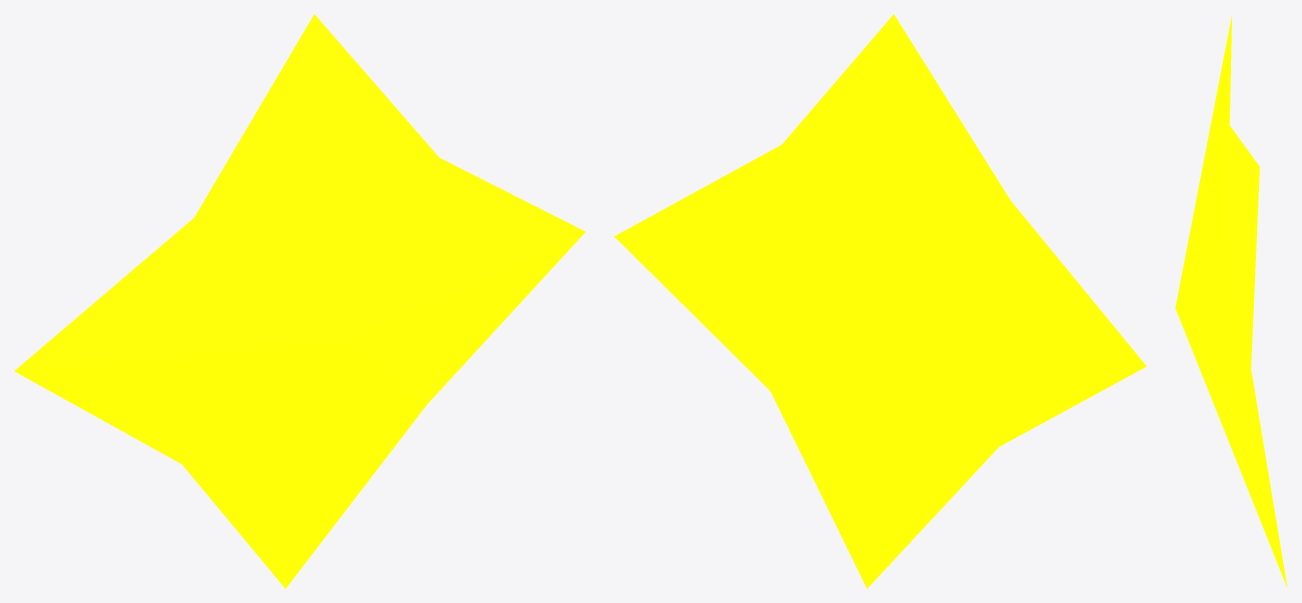
The model's file is four_pointed_star.glb.
3 renders of one model, left to right at view 1: azimuth 30°, elevation 25°; view 2: azimuth 150°, elevation 25°; view 3: azimuth 270°, elevation 25°, orthographic. The views are drawn at different scales.
Visible parts, largest first — view 1: 円柱; view 2: 円柱; view 3: 円柱.
Boxes of the visible parts, box(x1,y1,x2,y2) form: 円柱: box(14, 14, 585, 588); 円柱: box(614, 14, 1146, 588); 円柱: box(1175, 16, 1287, 588).
Bounding box in the file's own units: 0.15 × 0.1494 × 0.0265.
